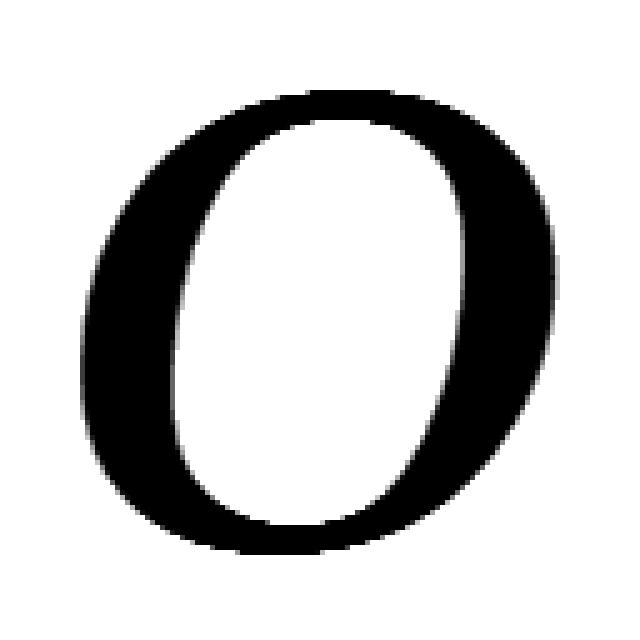O: (80, 90, 560, 560)
